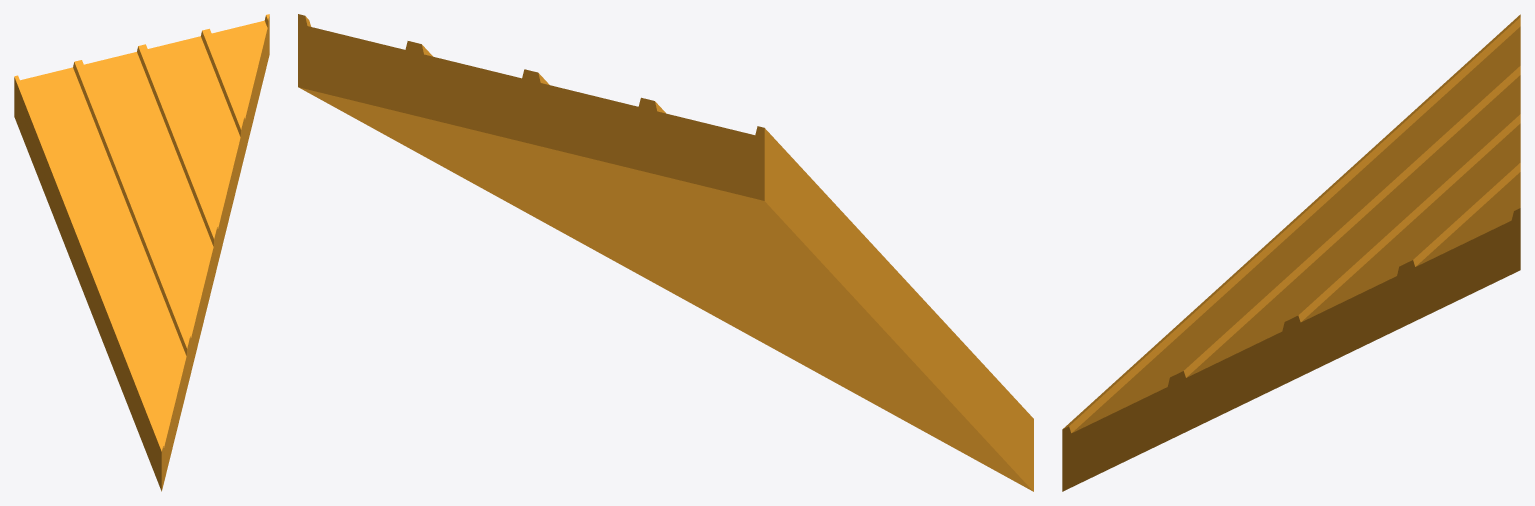
The model's file is SM_Roof_Metal_Regular_2x2m_Diagonal.fbx.
The picture shows the model from 3 angles, left to right: view 1: azimuth 30°, elevation 25°; view 2: azimuth 150°, elevation 25°; view 3: azimuth 270°, elevation 25°; orthographic projection. The views are drawn at different scales.
Visible parts, largest first — view 1: roof-metal-regular-2x2m-diagonal; view 2: roof-metal-regular-2x2m-diagonal; view 3: roof-metal-regular-2x2m-diagonal.
Part boxes in pixels (box(x1,y1,x2,y2)): roof-metal-regular-2x2m-diagonal: box(14, 14, 269, 491); roof-metal-regular-2x2m-diagonal: box(298, 14, 1033, 491); roof-metal-regular-2x2m-diagonal: box(1062, 14, 1520, 491).
Bounding box in the file's own units: 2 × 2.3 × 2.
